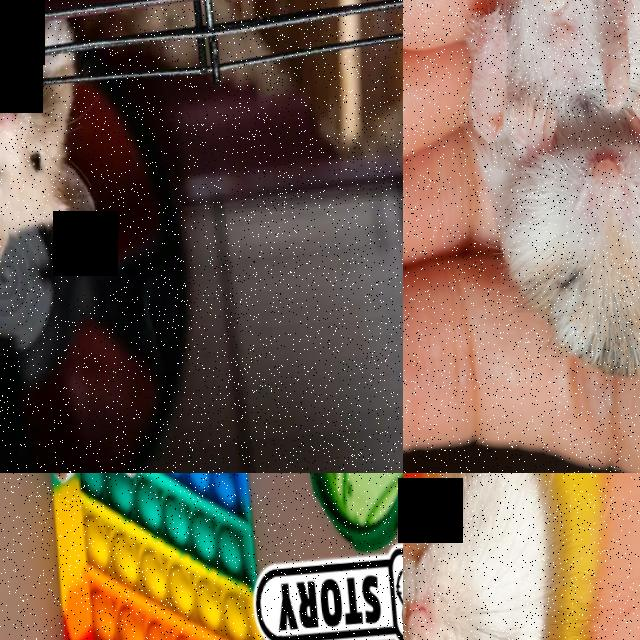hamster: (453, 0, 640, 390), (403, 473, 629, 640), (0, 21, 105, 286)
